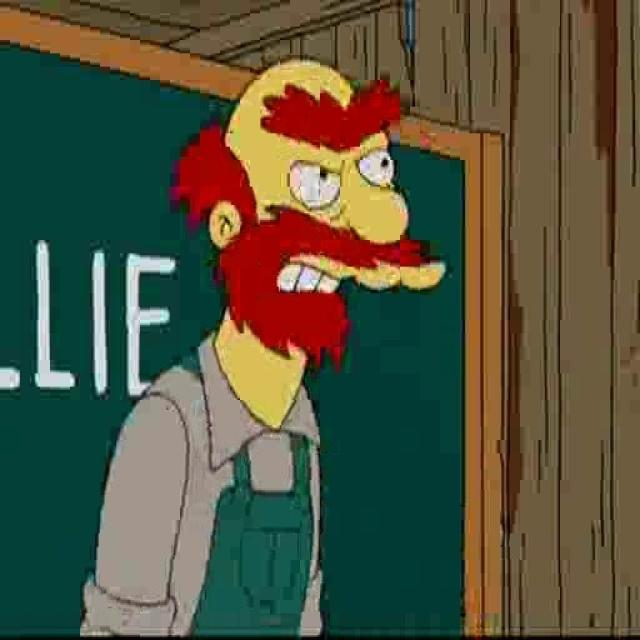Groundskeeper Willie: (164, 55, 453, 385)
